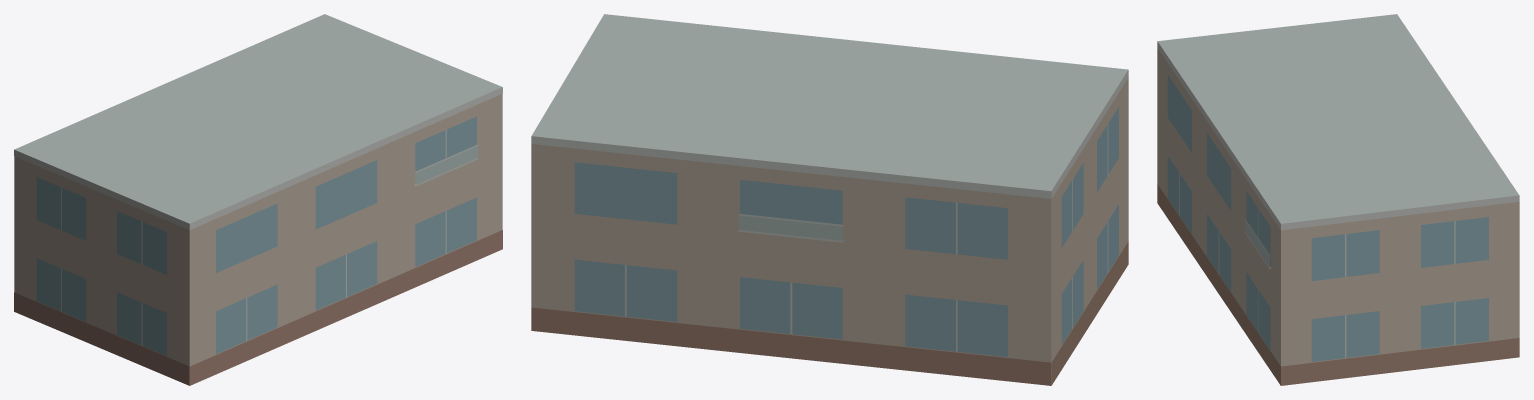
Rendered from survey-upis-32698050.glb.
3 views of the same model, side by side, from view 1: azimuth 30°, elevation 25°; view 2: azimuth 150°, elevation 25°; view 3: azimuth 270°, elevation 25° (orthographic). The views are drawn at different scales.
Parts seen in each view (by area): view 1: survey-upis-32698050.tmp; view 2: survey-upis-32698050.tmp; view 3: survey-upis-32698050.tmp.
Boxes of the visible parts, box(x1,y1,x2,y2) form: survey-upis-32698050.tmp: box(14, 14, 502, 385); survey-upis-32698050.tmp: box(531, 14, 1128, 385); survey-upis-32698050.tmp: box(1157, 14, 1519, 385).
Size of the model in its own units: 16.97 by 6.1 by 12.37.
